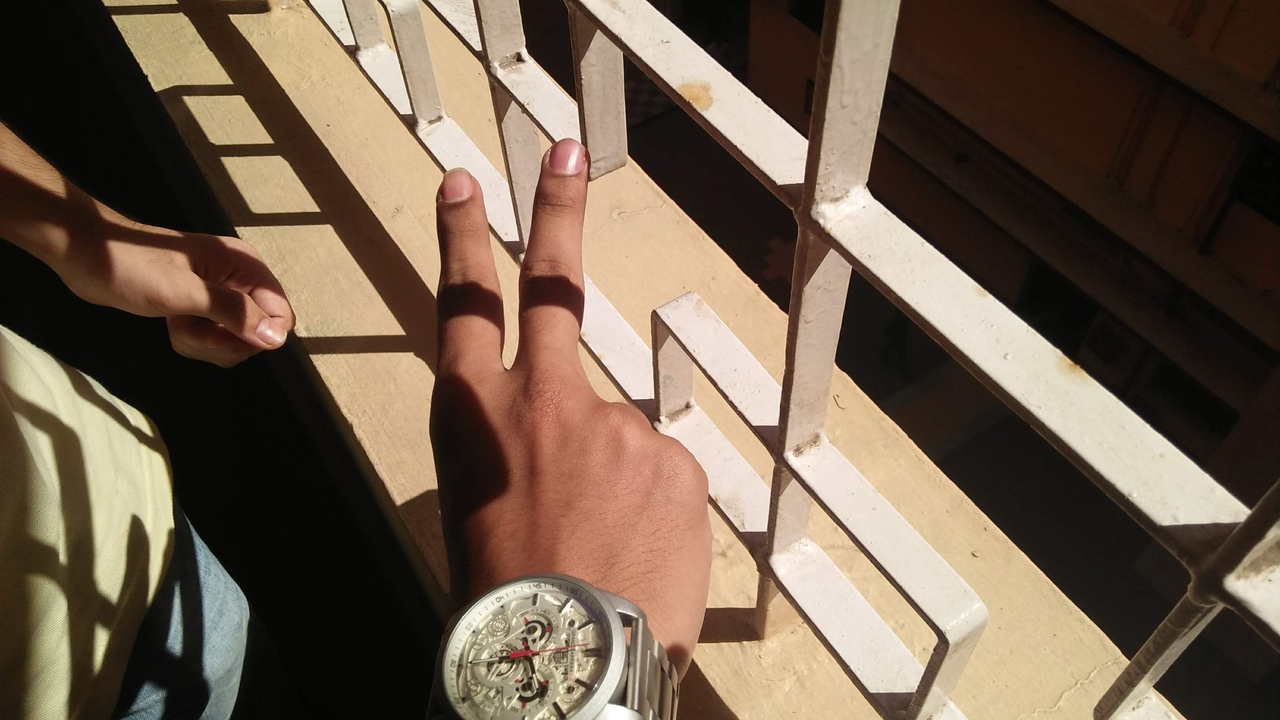fingertip: (532, 132, 592, 186), (428, 162, 484, 218)
